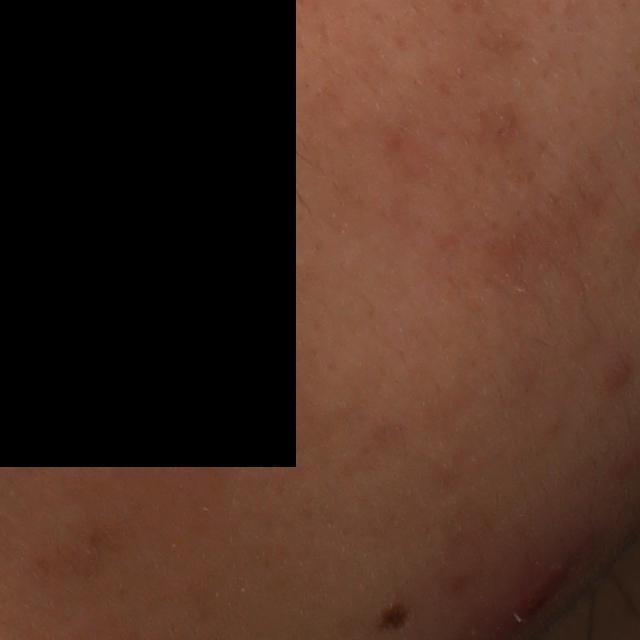nevus: (371, 598, 415, 636)
